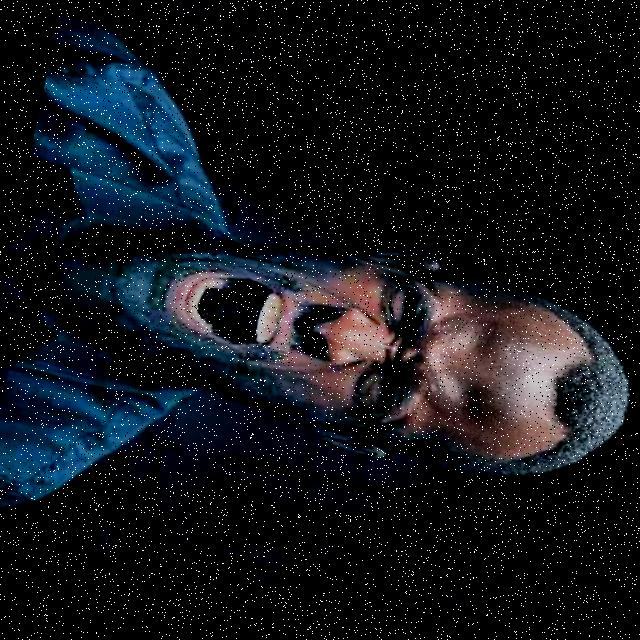angry: (103, 176, 640, 520)
